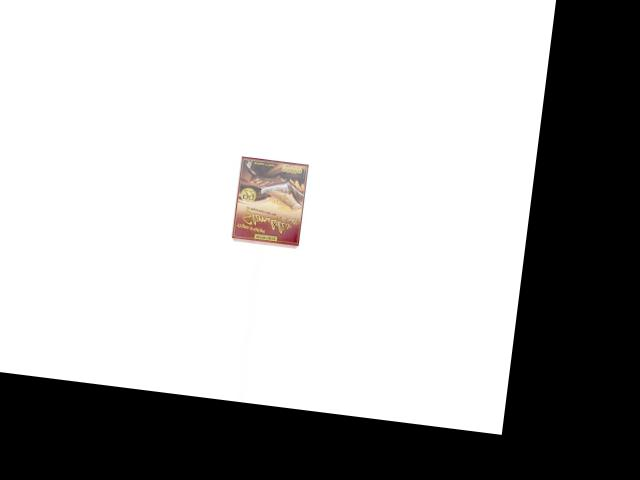chocolate: (231, 155, 308, 249)
